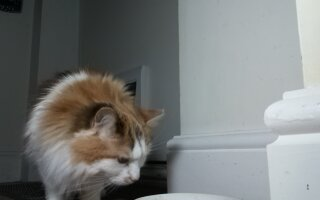clara: (26, 66, 162, 197)
